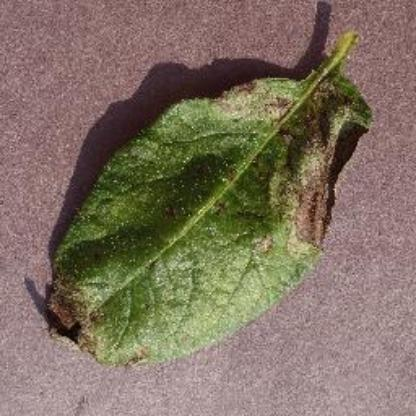Late-Blight: (41, 23, 381, 375)
